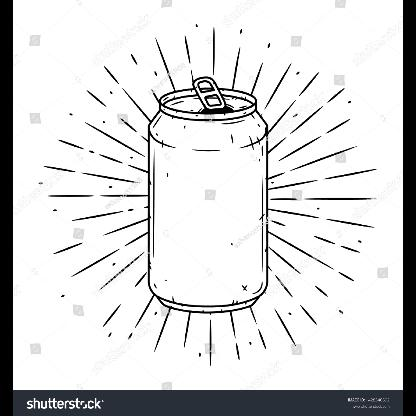Lid_Open: (186, 74, 238, 124)
Tin_Can: (143, 74, 273, 318)
